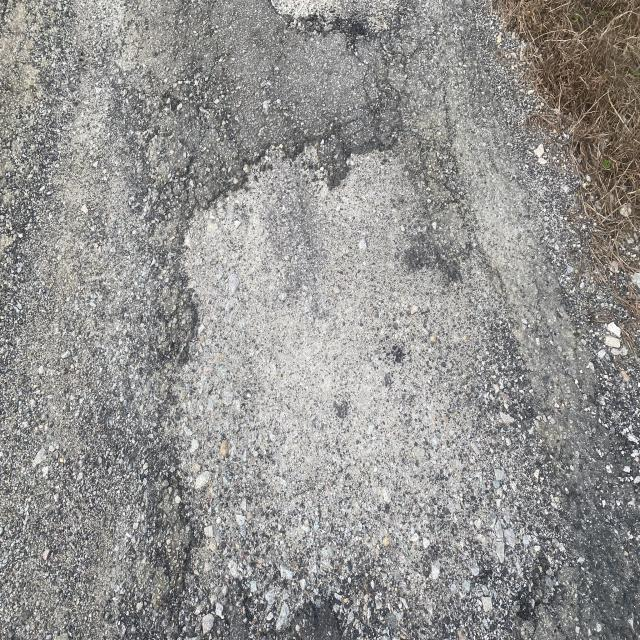pothole: (126, 136, 394, 602)
